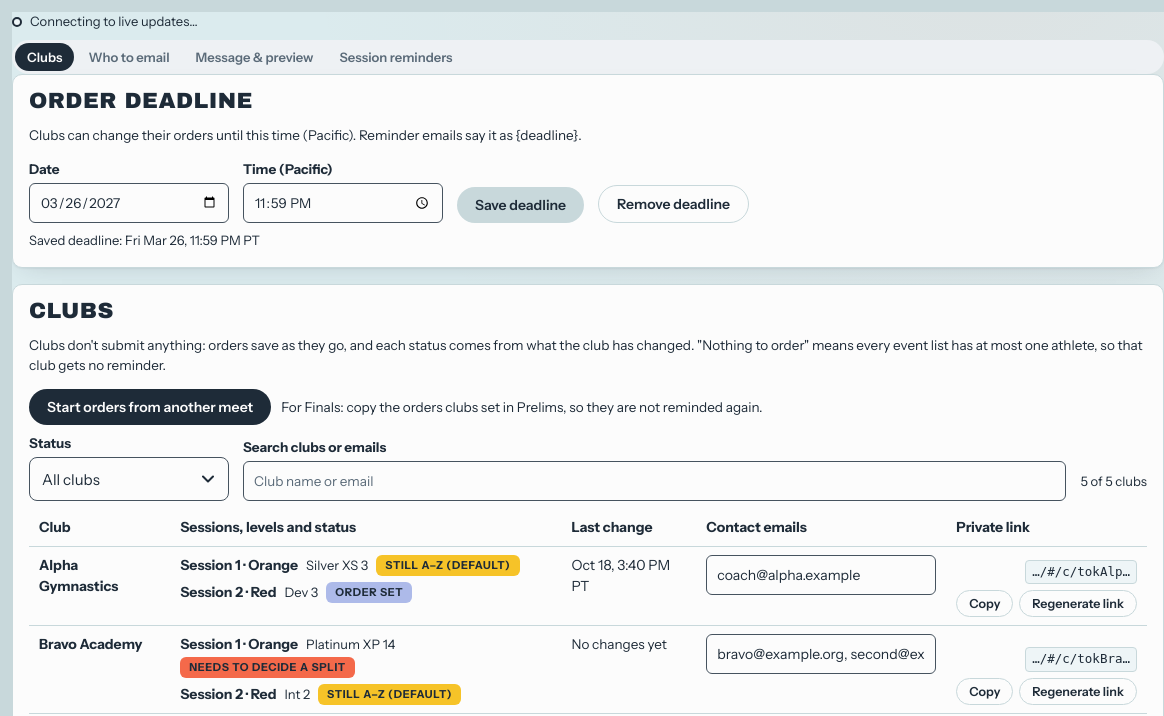
Test: Reminders › shows the two lists with counts and the clubs with no email separately
Expected: the heading "Clubs" is shown, [29,299,114,323]
Click the button "Who to email". click: [129, 56]
box: [76,42,182,70]
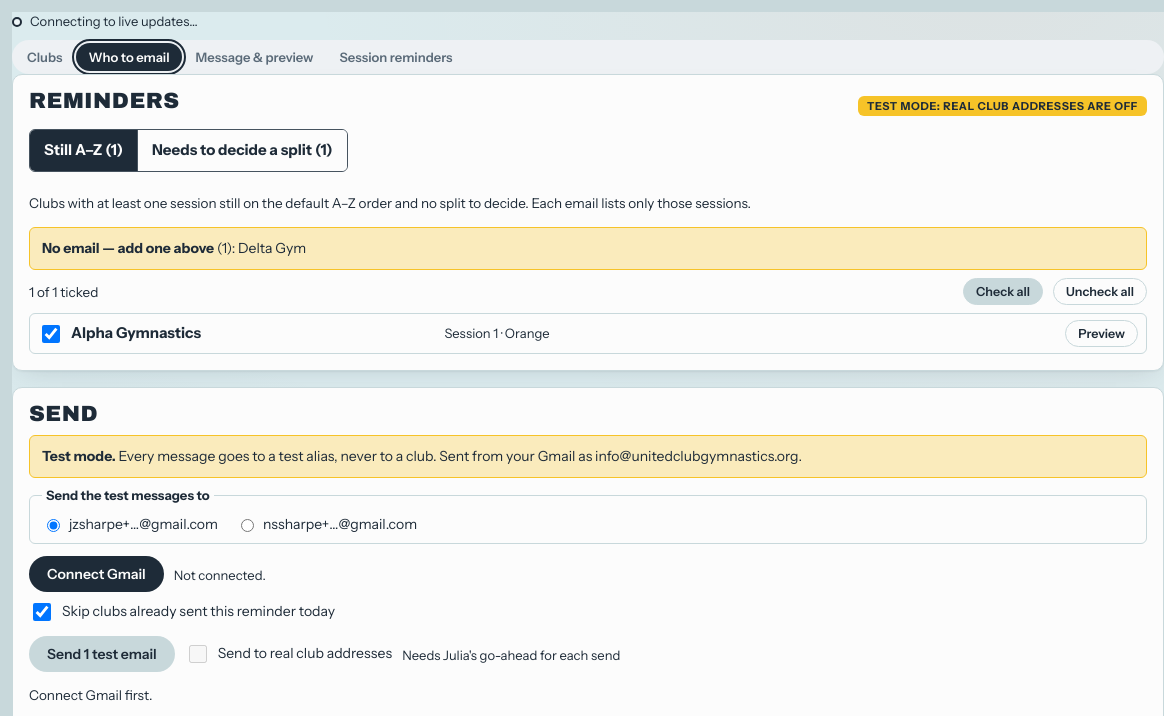
Now the button "Needs to decide a split (1)" is shown
Now the text "No email — add one above" is shown, box [42,239,214,257]
Now the text "No email — add one above (1): Delta Gym" is shown, box [29,227,1147,270]
Click the button "Needs to decide a split (1)". click: [242, 151]
box: [137,130,347,171]
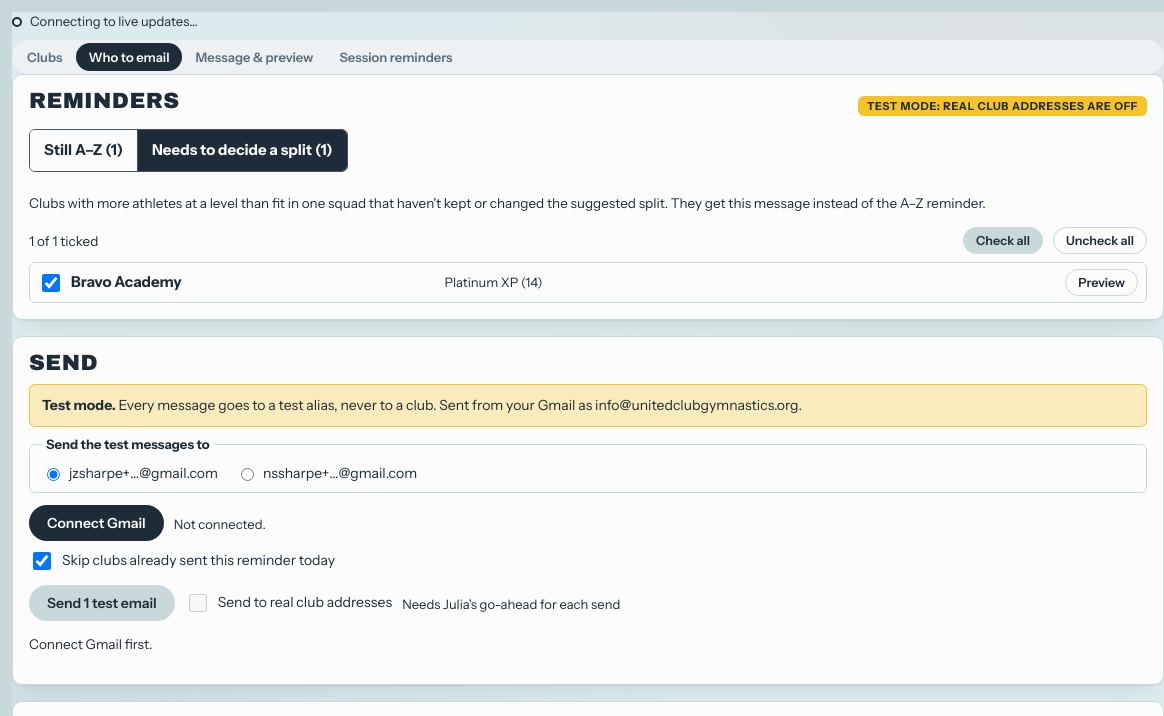
Now the text "Bravo Academy" is shown, box [71,271,182,294]
